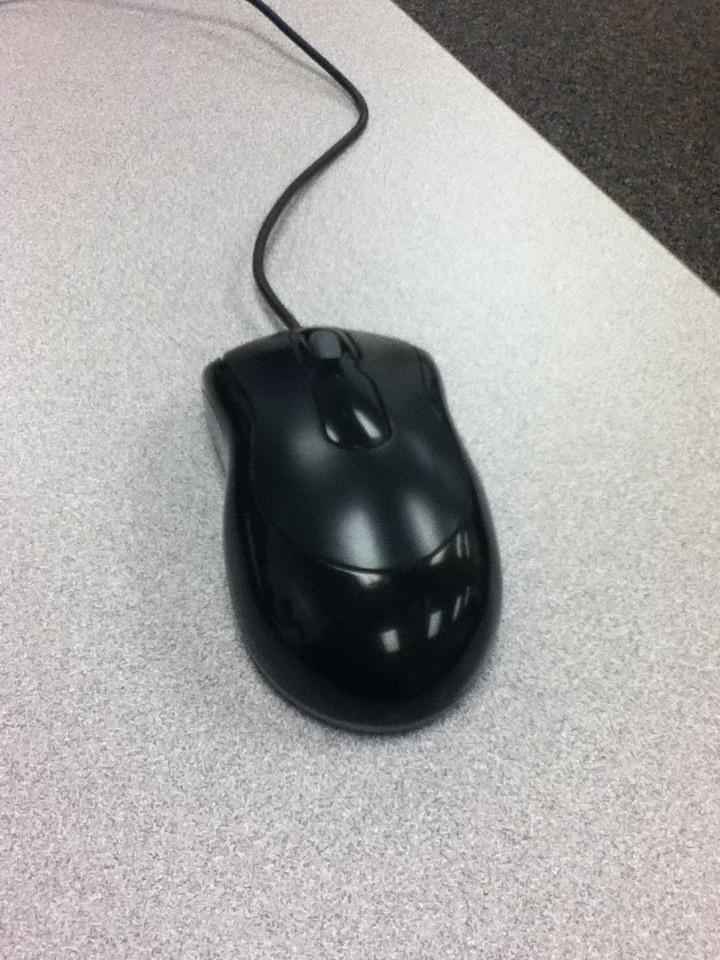computer mouse: (201, 327, 503, 738)
